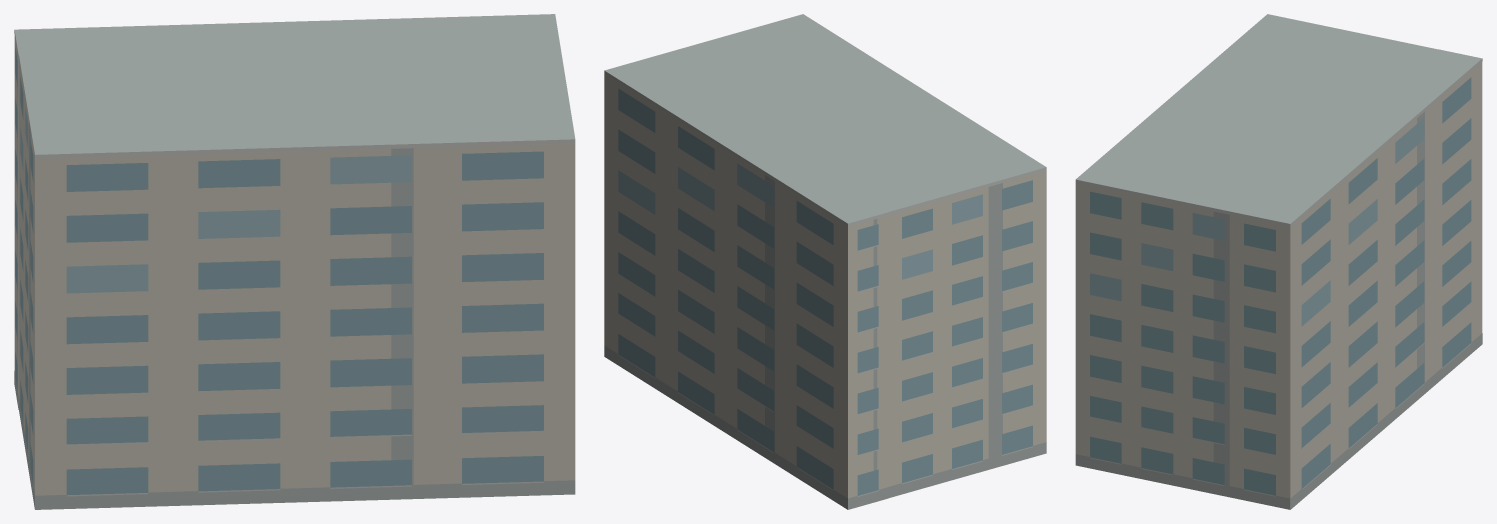
Rendered from residential-294291ad-fab4-4f66-aac6-195b81078ce0.glb.
3 renders of one model, left to right at view 1: azimuth 30°, elevation 25°; view 2: azimuth 150°, elevation 25°; view 3: azimuth 270°, elevation 25°, orthographic. The views are drawn at different scales.
Parts seen in each view (by area): view 1: residential-294291ad-fab4-4f66-aac6-195b81078ce0.tmp; view 2: residential-294291ad-fab4-4f66-aac6-195b81078ce0.tmp; view 3: residential-294291ad-fab4-4f66-aac6-195b81078ce0.tmp.
Boxes of the visible parts, x1,y1,x2,y2 form: residential-294291ad-fab4-4f66-aac6-195b81078ce0.tmp: [14, 14, 575, 509]; residential-294291ad-fab4-4f66-aac6-195b81078ce0.tmp: [604, 14, 1046, 509]; residential-294291ad-fab4-4f66-aac6-195b81078ce0.tmp: [1075, 14, 1482, 509].
Bounding box in the file's own units: 33.09 × 21 × 27.09.
